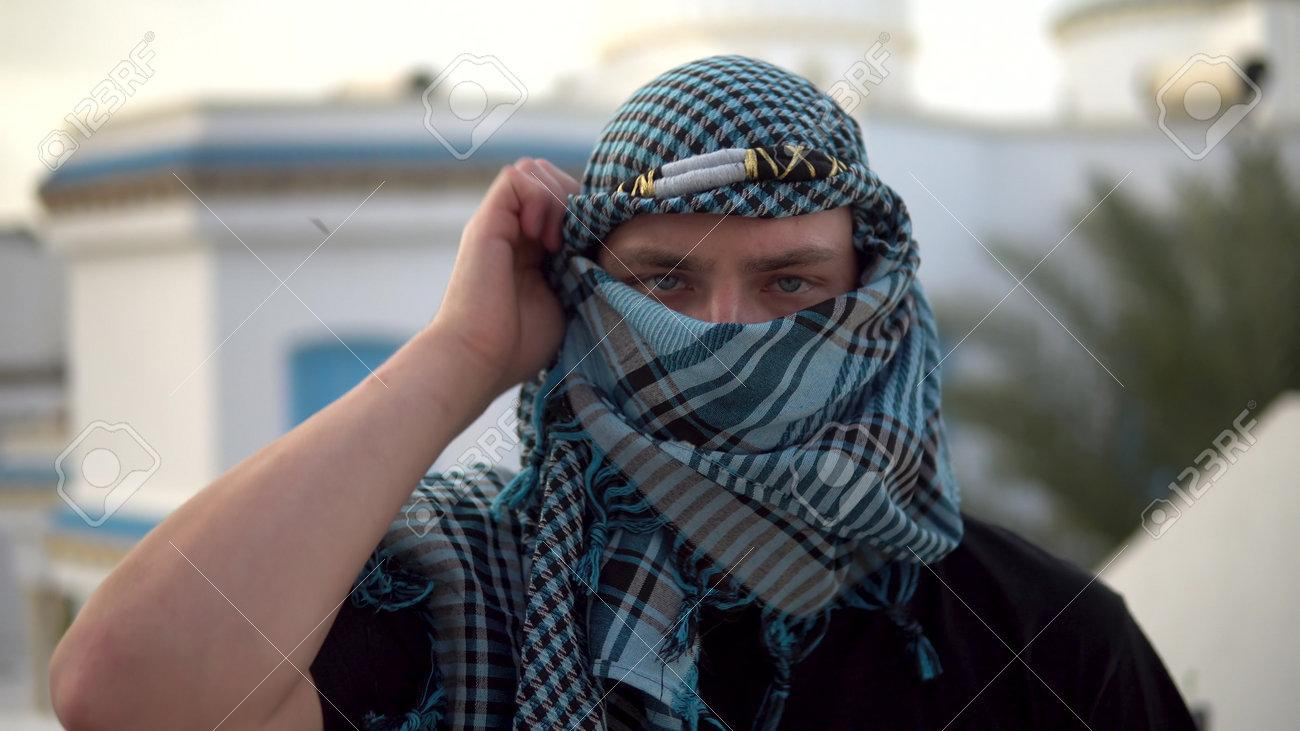scarf-kerchief: (505, 38, 977, 594)
